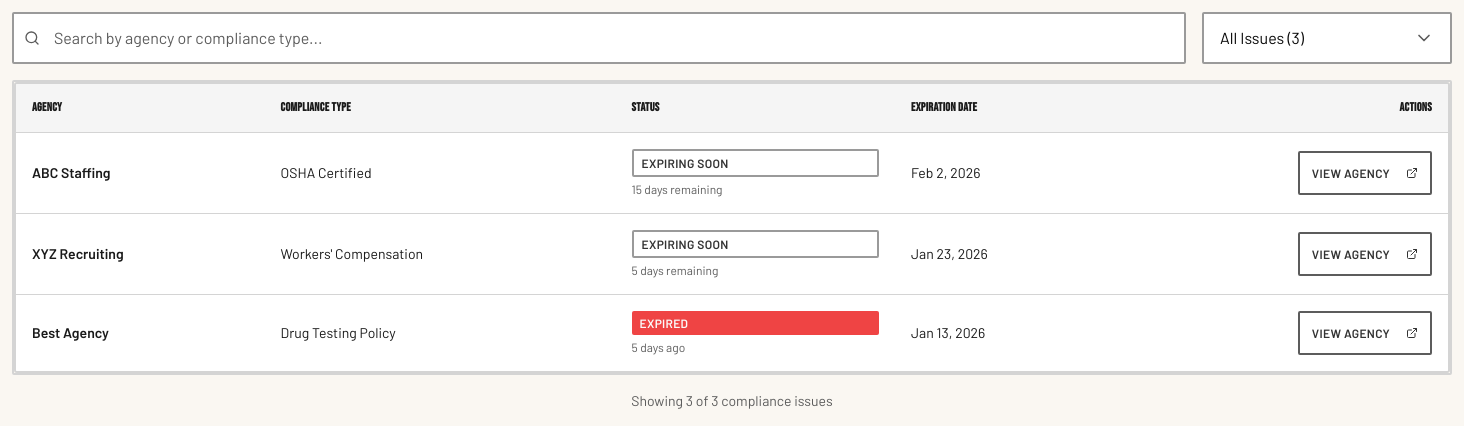
ComplianceOverviewTable › Search Functionality › should filter by agency name
Type "ABC" into the field with placeholder "Search by agency or compliance type...". click: (599, 38)
box: 12,12 -> 1186,64
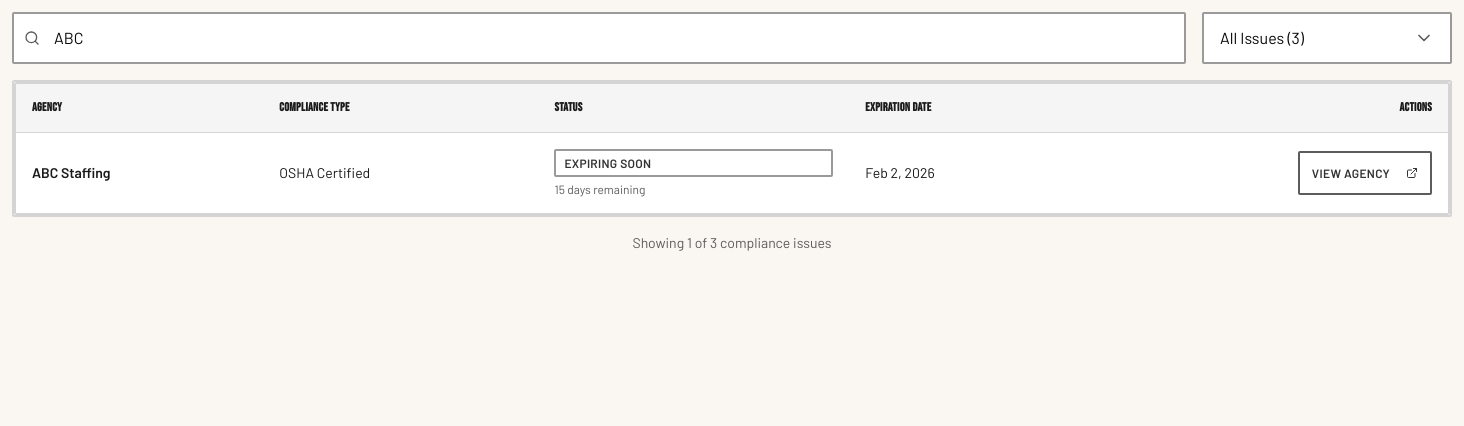
Now the text "XYZ Recruiting" is gone
Now the text "Best Agency" is gone
Now the text "Showing 1 of 3 compliance issues" is shown, box 632,234 -> 832,250
